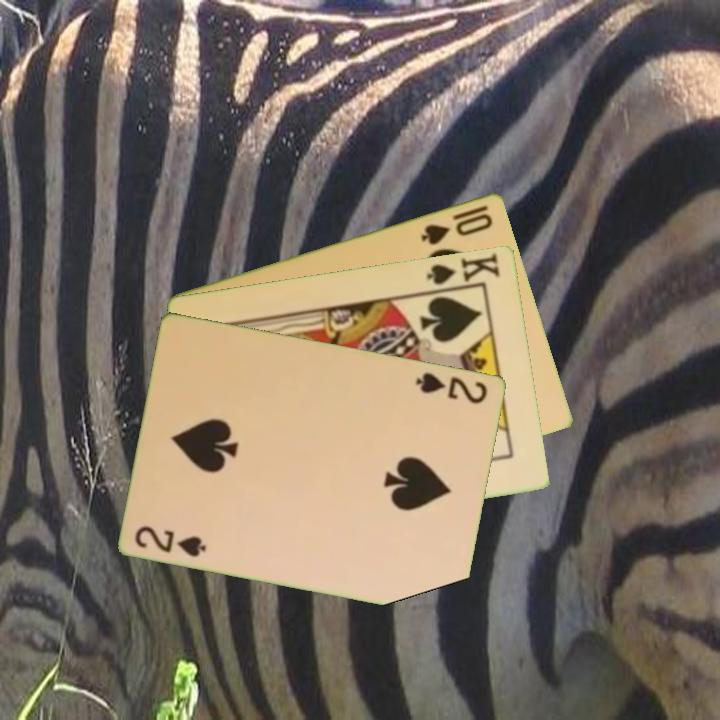10s: (417, 209, 496, 247)
2s: (412, 368, 491, 407), (131, 522, 210, 560)
Ks: (423, 249, 503, 287)
